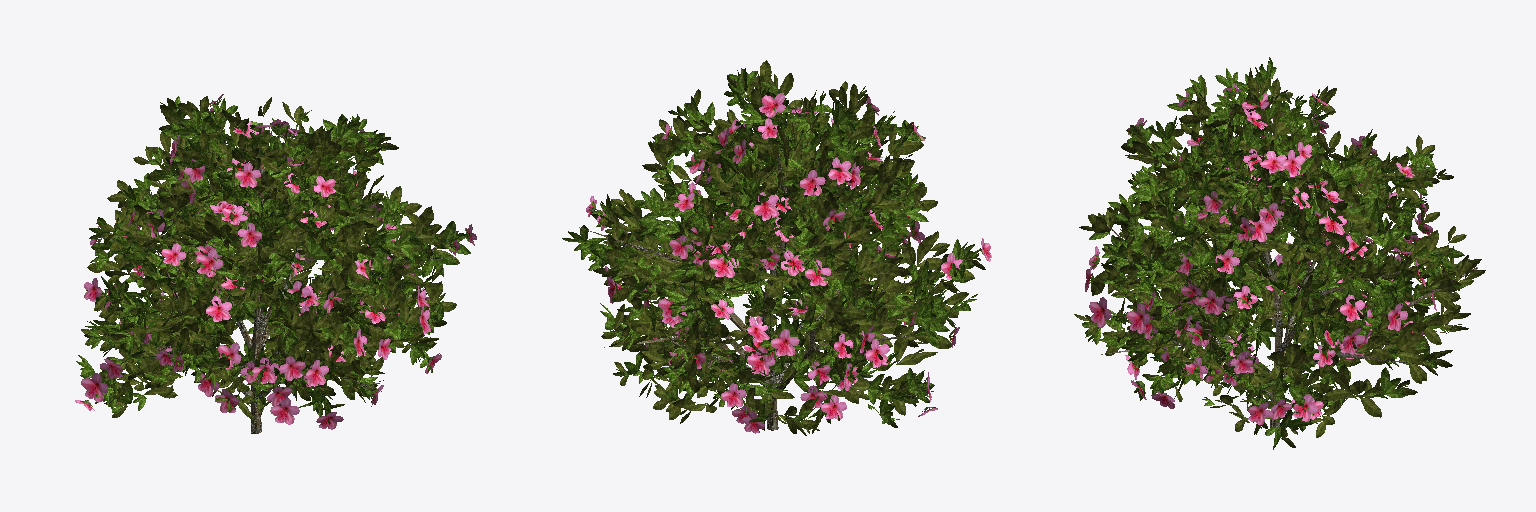
The picture shows the model from 3 angles: view 1: azimuth 30°, elevation 25°; view 2: azimuth 150°, elevation 25°; view 3: azimuth 270°, elevation 25°; orthographic projection.
Parts seen in each view (by area): view 1: Azalea_Hero_Flowers_2_Mesh.006; view 2: Azalea_Hero_Flowers_2_Mesh.006; view 3: Azalea_Hero_Flowers_2_Mesh.006.
Boxes of the visible parts, x1=… form: Azalea_Hero_Flowers_2_Mesh.006: x1=75, y1=94, x2=476, y2=433; Azalea_Hero_Flowers_2_Mesh.006: x1=562, y1=60, x2=991, y2=435; Azalea_Hero_Flowers_2_Mesh.006: x1=1074, y1=57, x2=1485, y2=449.
Bounding box in the file's own units: 0.4861 × 0.4087 × 0.4415.
5 materials, 5 textured.